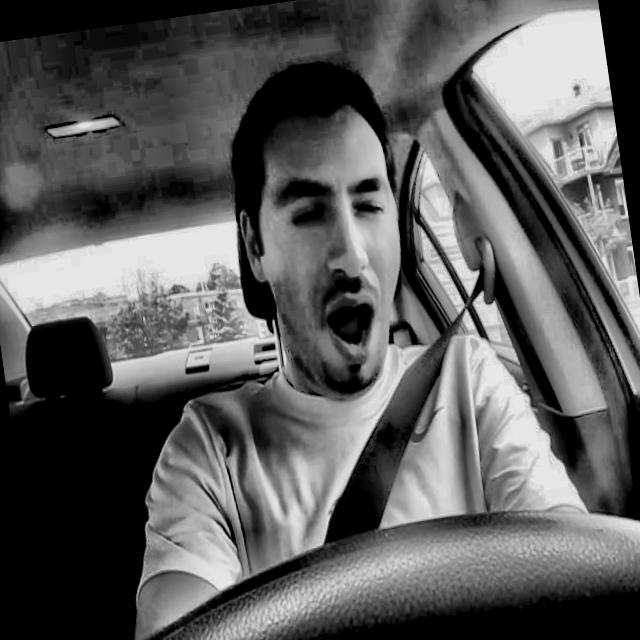closed_eyes: (273, 191, 333, 238), (340, 191, 393, 235)
open_mouth: (314, 285, 390, 368)
